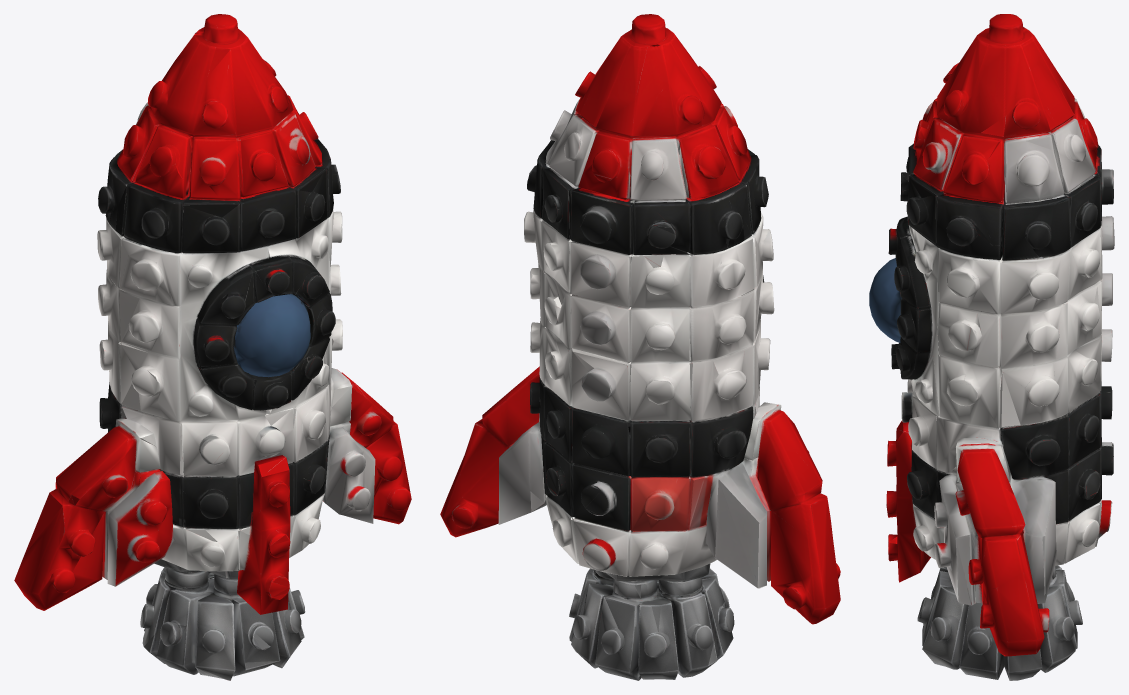
File: Rocket.gltf
The picture shows the model from 3 angles, left to right: view 1: azimuth 30°, elevation 25°; view 2: azimuth 150°, elevation 25°; view 3: azimuth 270°, elevation 25°; orthographic projection.
Parts seen in each view (by area): view 1: output_unwrapped; view 2: output_unwrapped; view 3: output_unwrapped.
Part boxes in pixels (box(x1,y1,x2,y2)): output_unwrapped: box(14, 14, 411, 680); output_unwrapped: box(440, 14, 840, 680); output_unwrapped: box(869, 14, 1114, 680).
Size of the model in its own units: 11.37 by 18 by 6.29.
1 material, 1 textured.
